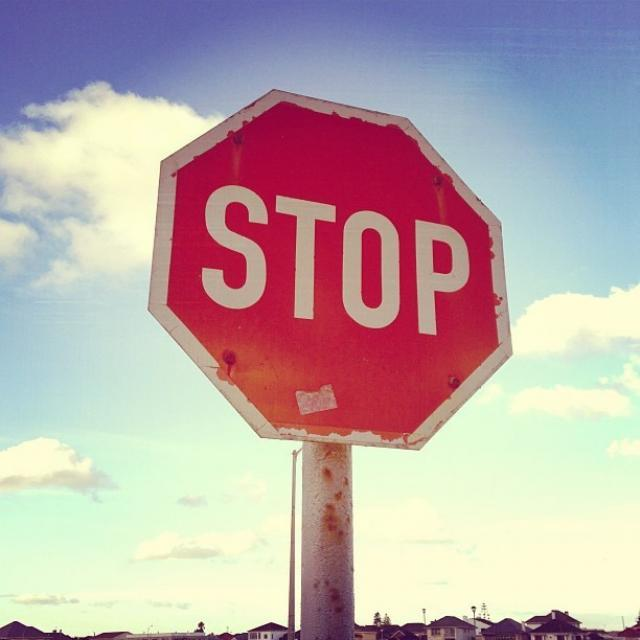stop: (145, 87, 514, 451)
